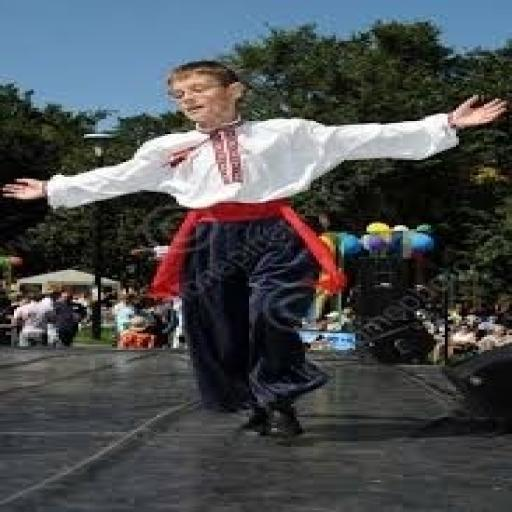dancing: (3, 58, 509, 439)
